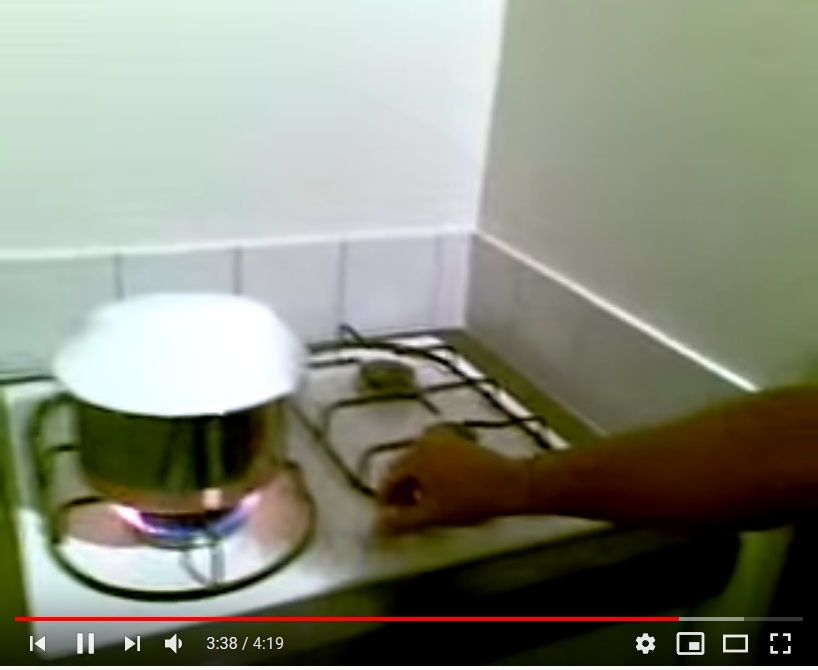Boiled: (58, 281, 310, 527)
